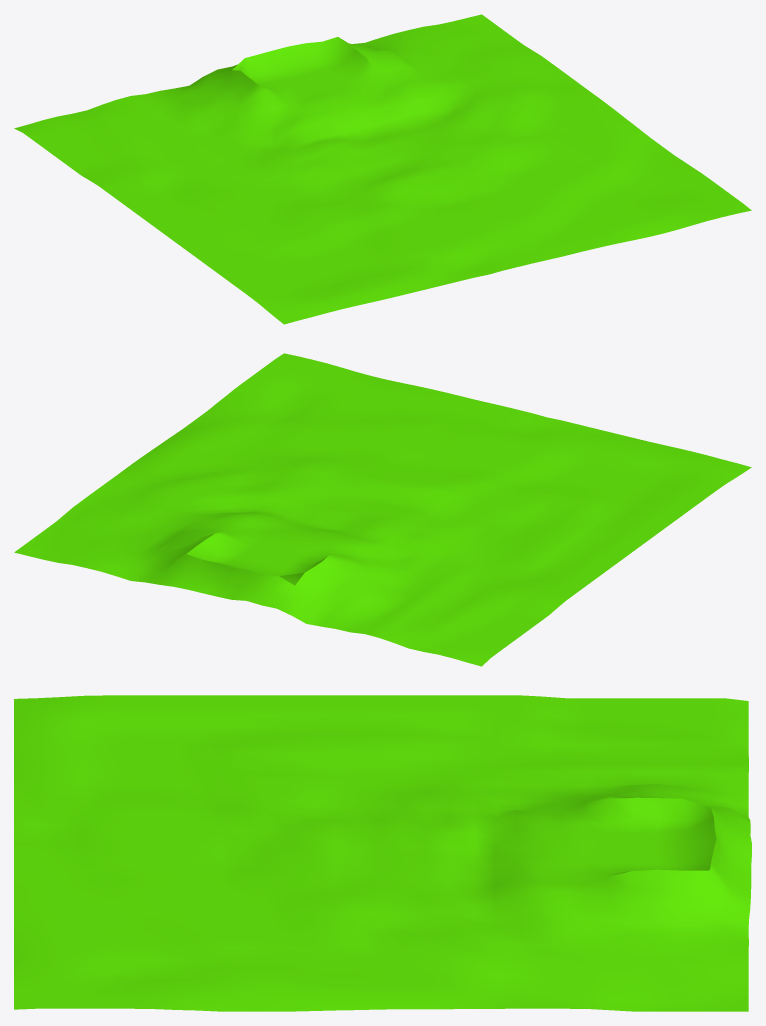
Rendered from terrarian.fbx.
The picture shows the model from 3 angles, top to bottom: view 1: azimuth 30°, elevation 25°; view 2: azimuth 150°, elevation 25°; view 3: azimuth 270°, elevation 25°; orthographic projection. The views are drawn at different scales.
Parts seen in each view (by area): view 1: Cube; view 2: Cube; view 3: Cube.
Boxes of the visible parts, x1,y1,x2,y2 form: Cube: (14, 14, 751, 324); Cube: (14, 353, 751, 666); Cube: (14, 695, 751, 1011).
Size of the model in its own units: 1127 by 63.43 by 1132.
